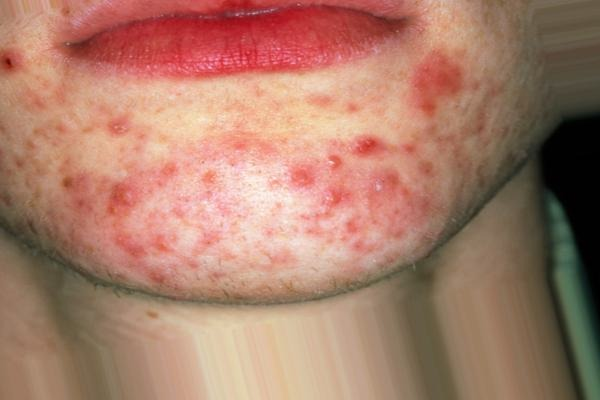Acne: (7, 52, 508, 266)
